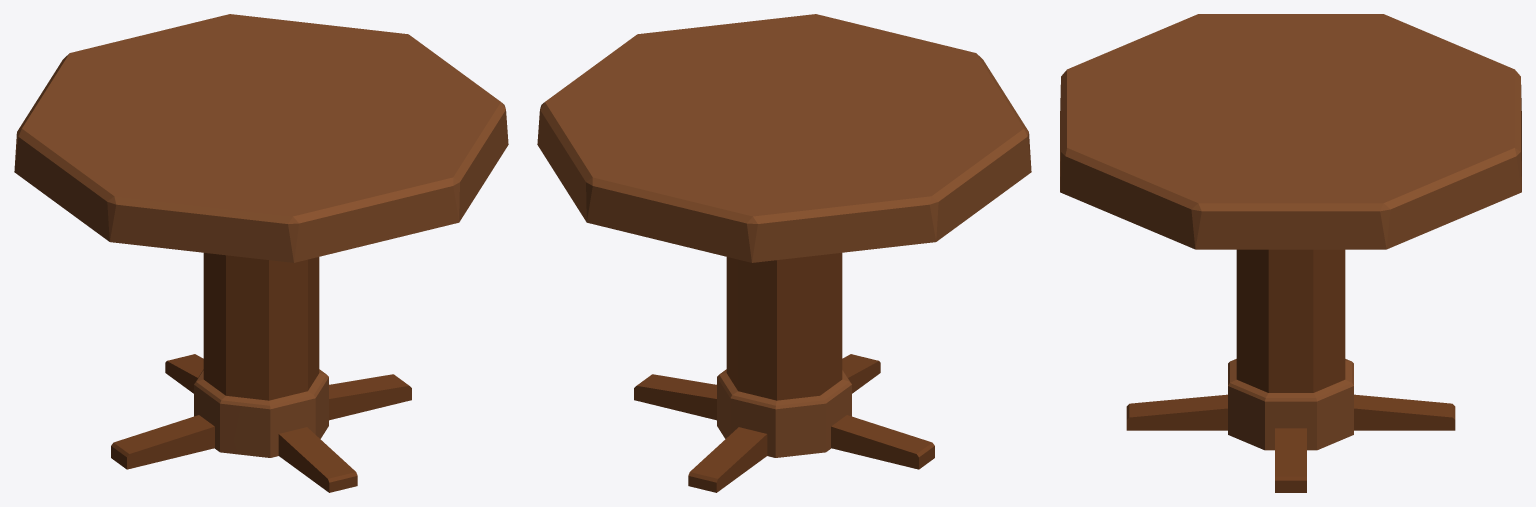
The model's file is TableRound.fbx.
3 renders of one model, left to right at view 1: azimuth 30°, elevation 25°; view 2: azimuth 150°, elevation 25°; view 3: azimuth 270°, elevation 25°, orthographic.
Parts seen in each view (by area): view 1: Cylinder.1256; view 2: Cylinder.1256; view 3: Cylinder.1256.
Boxes of the visible parts, x1,y1,x2,y2 form: Cylinder.1256: (14,14,508,492); Cylinder.1256: (537,14,1031,492); Cylinder.1256: (1060,14,1521,492).
Size of the model in its own units: 123 by 92.71 by 123.
Materials: 1 (1 with a texture image).
